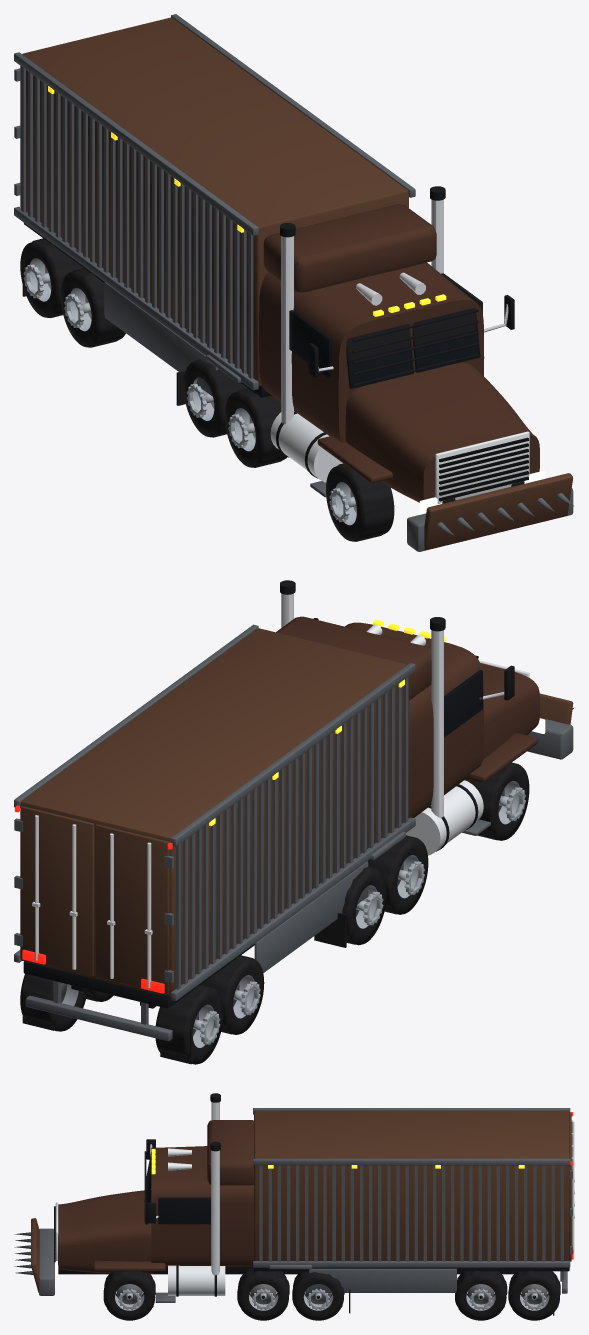
The model's file is war-rig.glb.
3 views of the same model, one above another, from view 1: azimuth 30°, elevation 25°; view 2: azimuth 150°, elevation 25°; view 3: azimuth 270°, elevation 25° (orthographic). The views are drawn at different scales.
Visible parts, largest first — view 1: Body, WheelFL, WheelD1L, WheelT1L, WheelT2L, WheelD2L; view 2: Body, WheelT2L, WheelT1L, WheelD1L, WheelFL, WheelD2L, WheelT2R; view 3: Body, WheelD1R, WheelT1R, WheelFR, WheelT2R, WheelD2R.
Part boxes in pixels (x1,y1,x2,y2): Body: (14, 14, 574, 551); WheelFL: (326, 463, 394, 541); WheelD1L: (225, 388, 287, 467); WheelT1L: (60, 268, 125, 347); WheelT2L: (20, 238, 83, 317); WheelD2L: (183, 359, 247, 437); Body: (14, 580, 574, 1064); WheelT2L: (155, 985, 223, 1064); WheelT1L: (201, 955, 264, 1034); WheelD1L: (368, 835, 428, 914); WheelFL: (472, 762, 529, 840); WheelD2L: (342, 866, 386, 945); WheelT2R: (20, 974, 87, 1031); Body: (14, 1093, 574, 1315); WheelD1R: (237, 1267, 289, 1320); WheelT1R: (455, 1270, 507, 1320); WheelFR: (103, 1271, 155, 1320); WheelT2R: (508, 1270, 560, 1320); WheelD2R: (292, 1271, 344, 1320).
Size of the model in its own units: 3.21 by 4.04 by 11.74.
